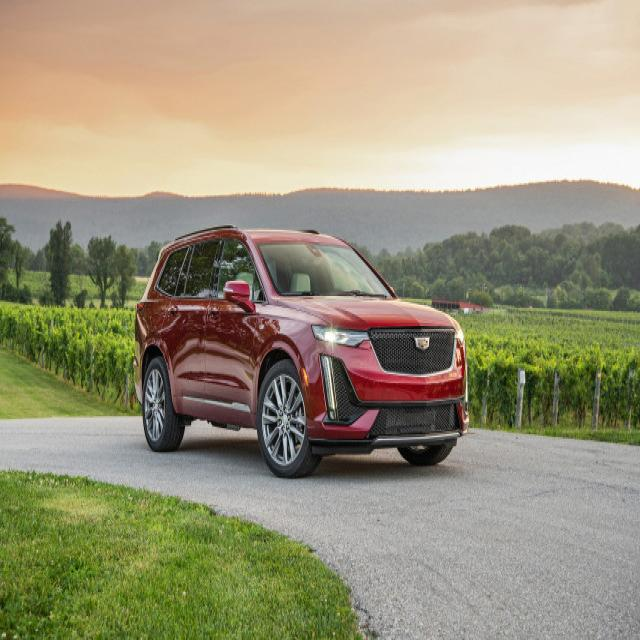car: (131, 225, 467, 484)
